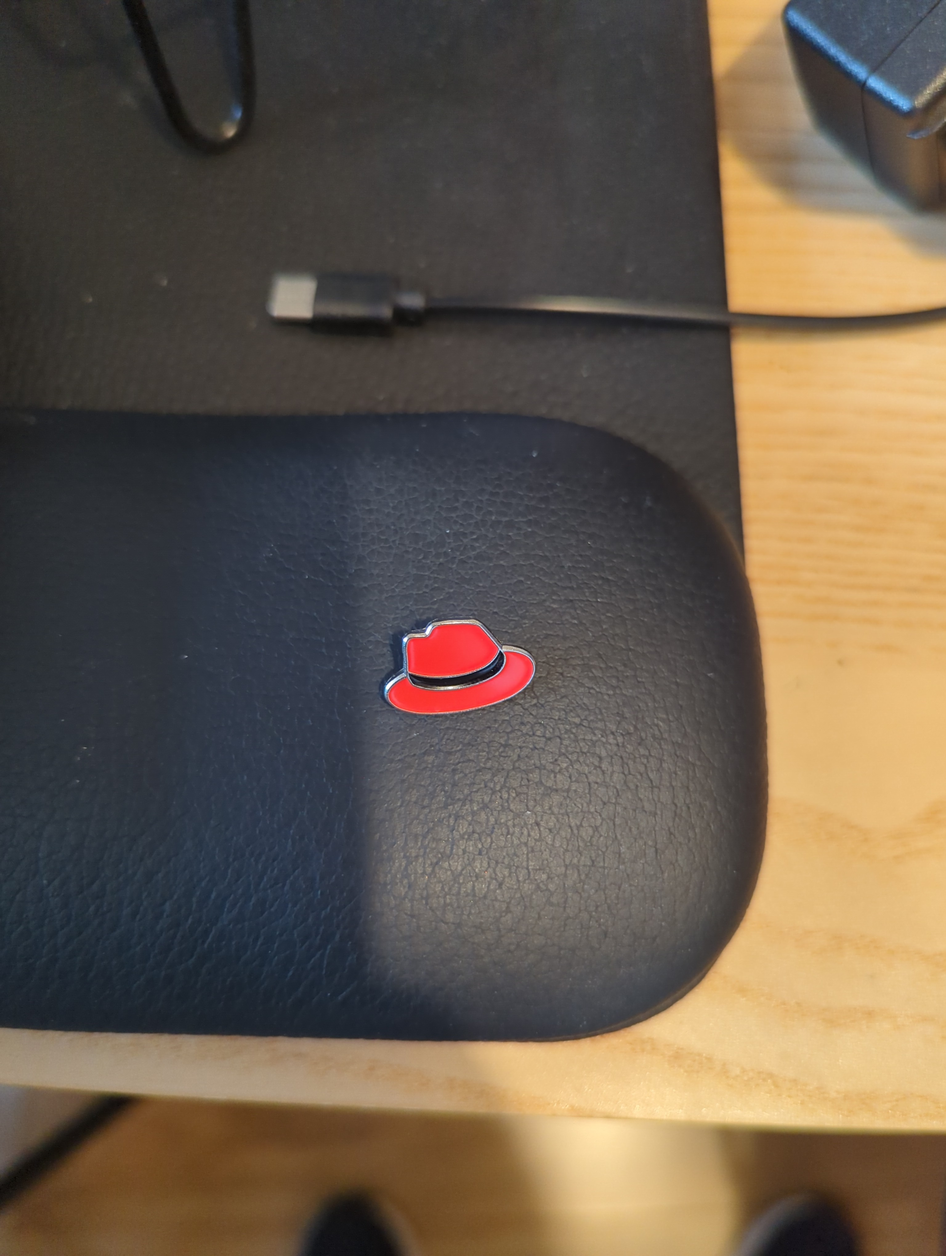Red-Hat: (344, 566, 596, 789)
